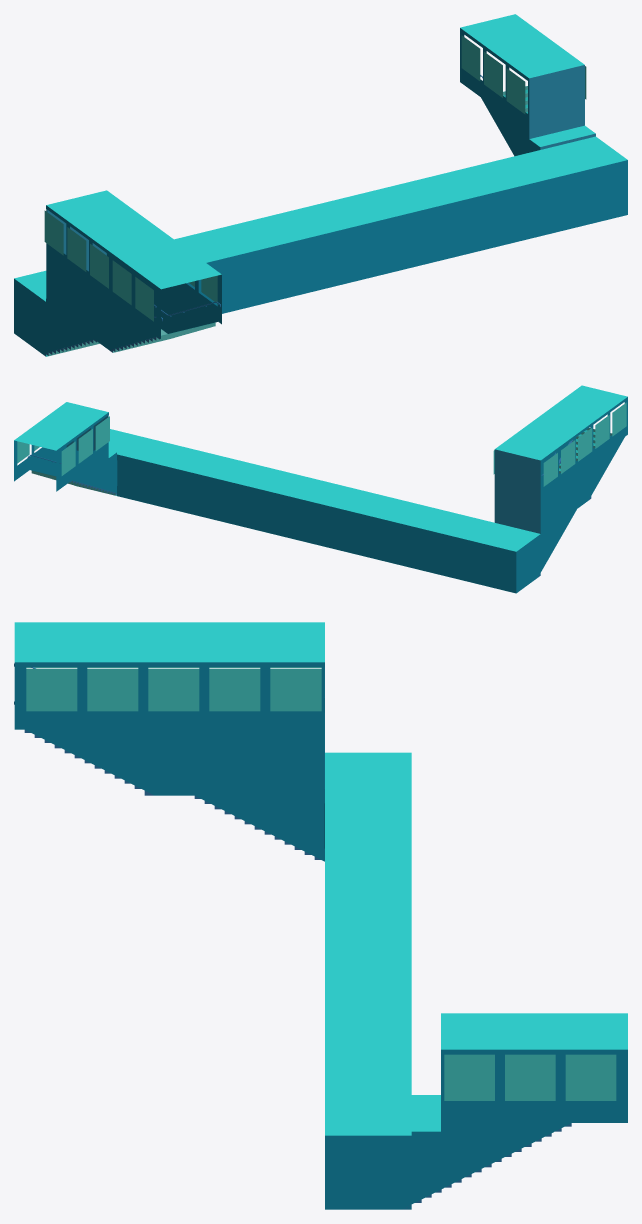
The model's file is calevoet_in.glb.
3 renders of one model, top to bottom at view 1: azimuth 30°, elevation 25°; view 2: azimuth 150°, elevation 25°; view 3: azimuth 270°, elevation 25°, orthographic. The views are drawn at different scales.
Parts seen in each view (by area): view 1: Inside; view 2: Inside; view 3: Inside.
Boxes of the visible parts, <box> form: Inside: <box>14,14,627,356</box>; Inside: <box>14,385,627,593</box>; Inside: <box>14,622,627,1209</box>.
Bounding box in the file's own units: 27.42 × 6.77 × 18.41.
